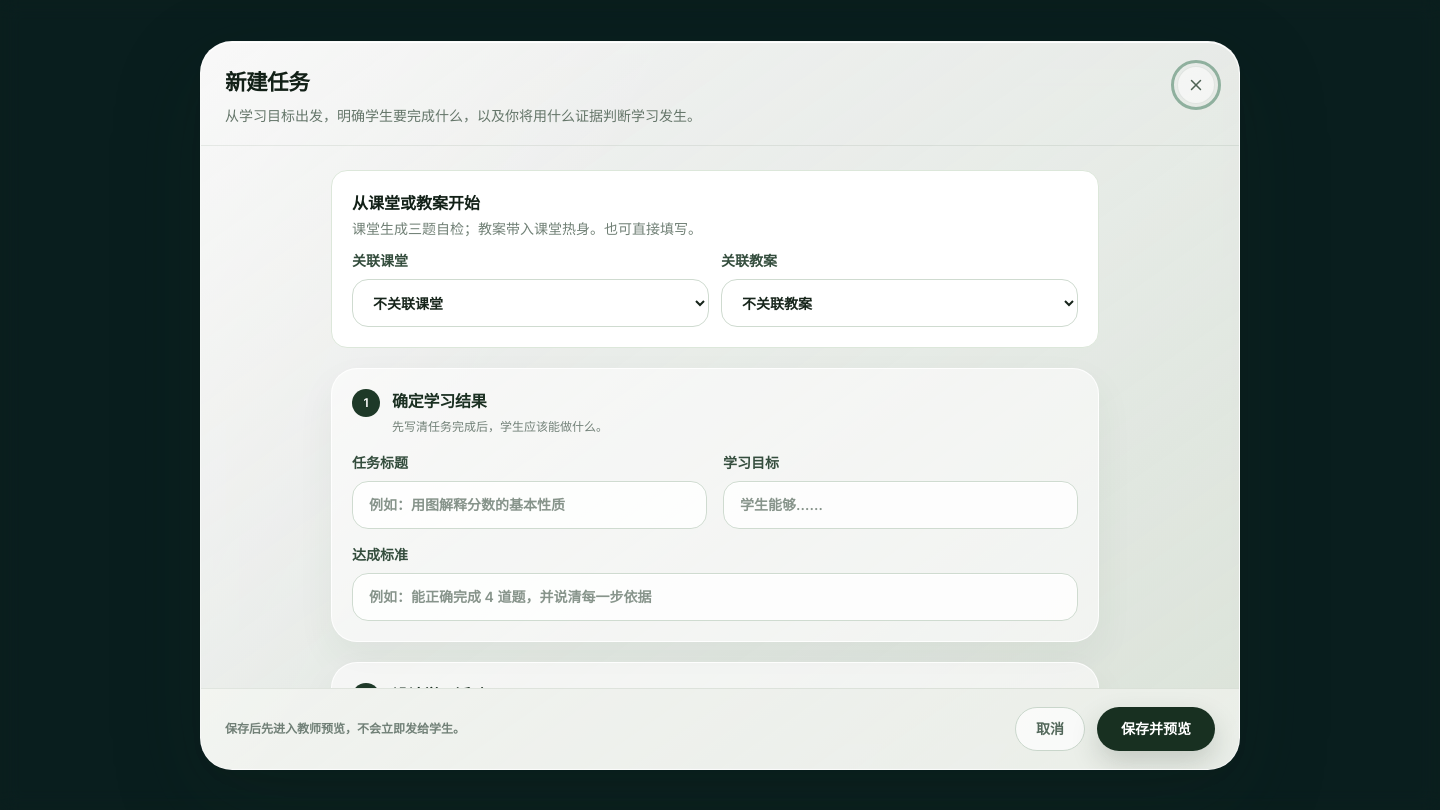
Scenario: CreateTaskDialog teaching flow › keeps the draft stable when a classroom is detached or replaced by a plan
This screenshot has width=1440, height=810.
Select "分数的基本性质 · 五年级（2）班" in the dropdown labelled "关联课堂". click: (530, 303)
box: [352,279,709,327]
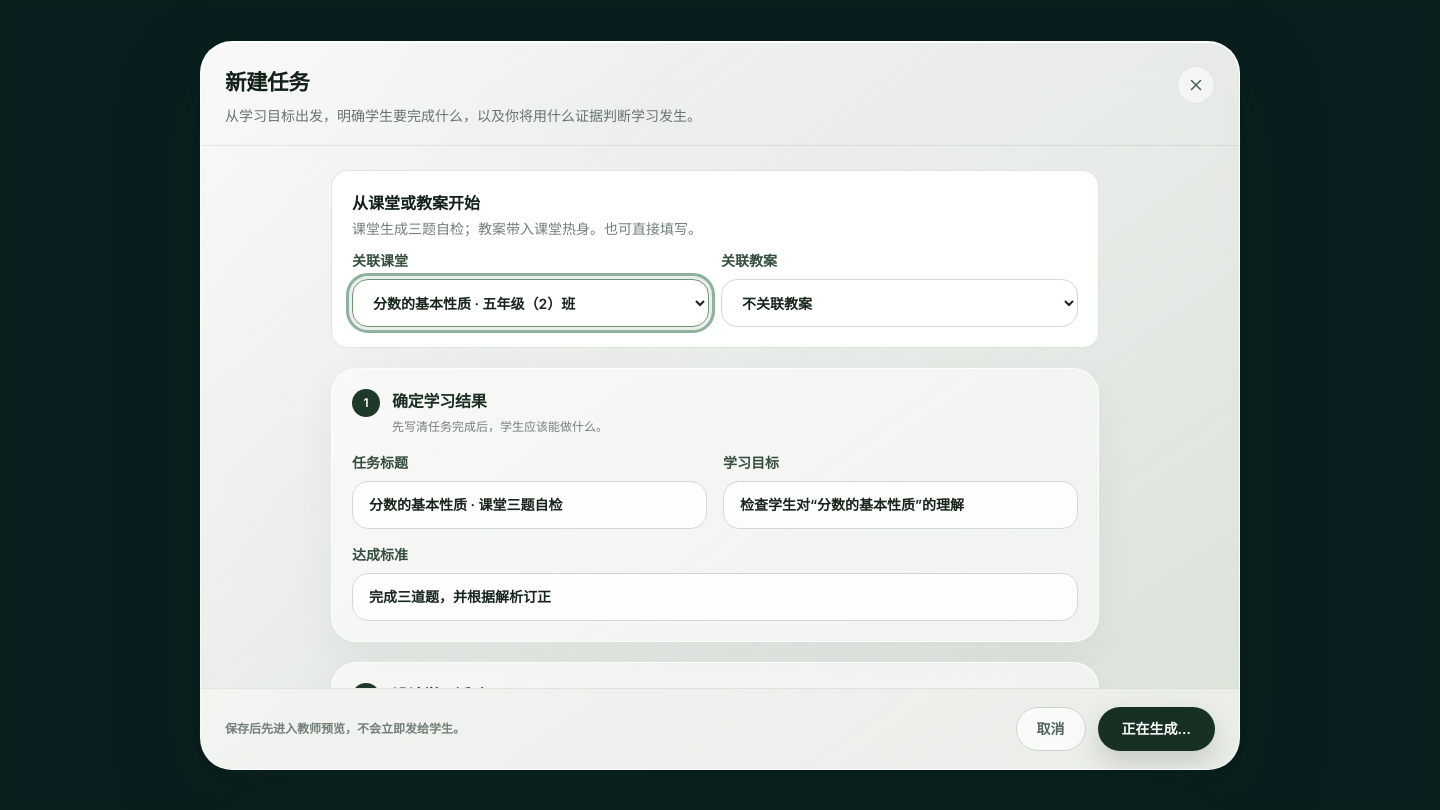
Select "不关联课堂" in the dropdown labelled "关联课堂". click: (530, 303)
box: [352,279,709,327]
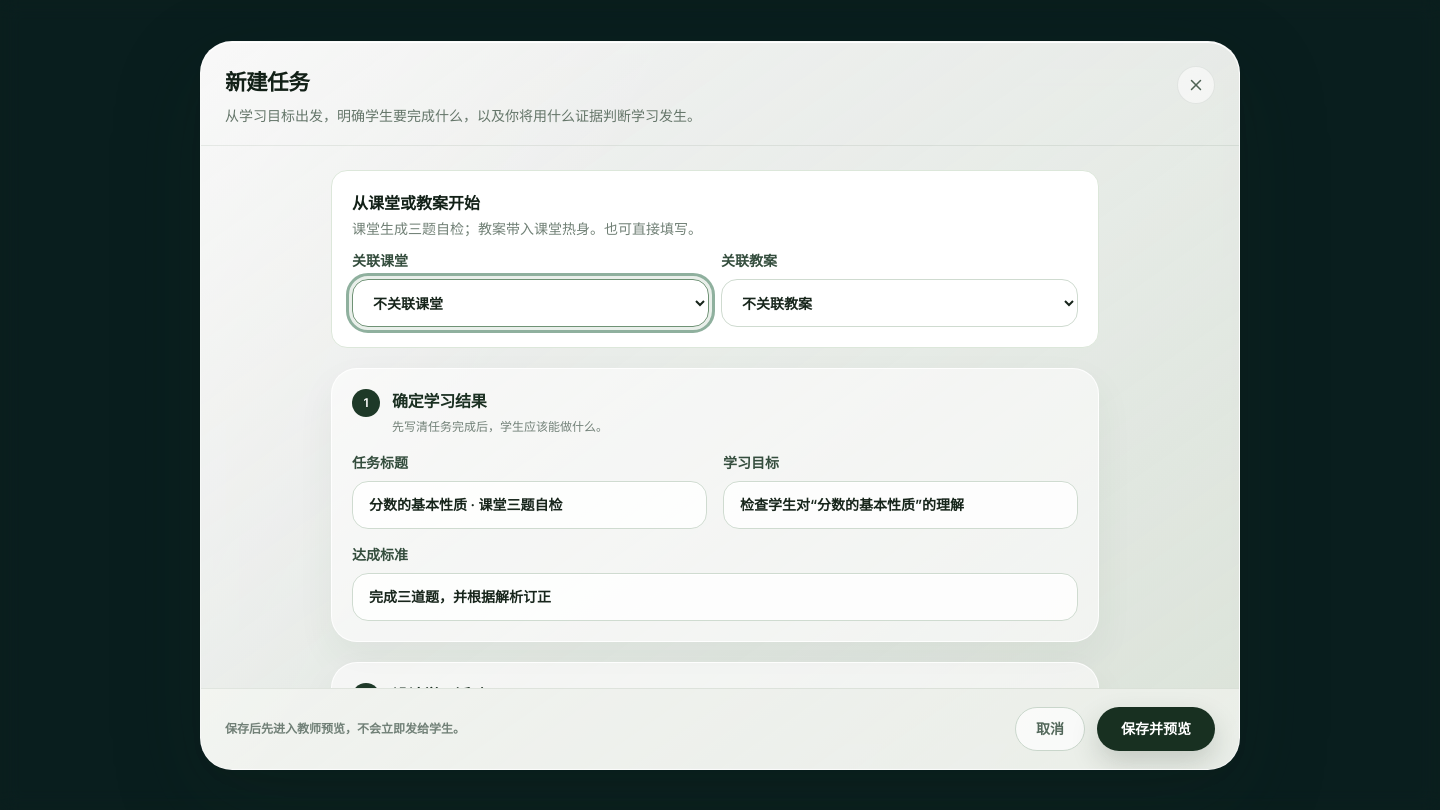
Select "单位换算步骤补讲" in the dropdown labelled "关联教案". click: (900, 303)
box: [721,279,1078,327]
(page scrolled)
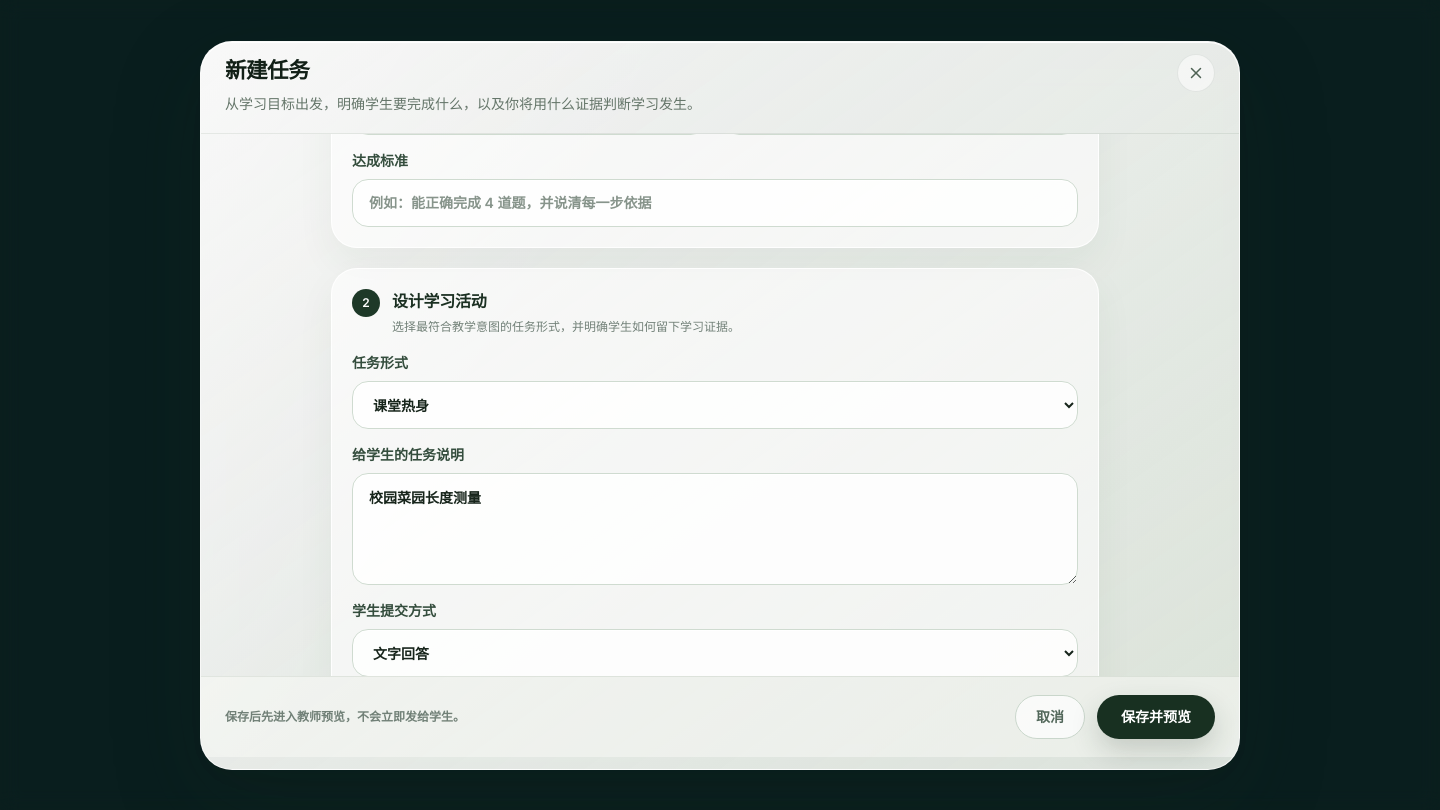
Expected: the dropdown labelled "任务形式" shows "课堂热身", [352,381,1078,429]
